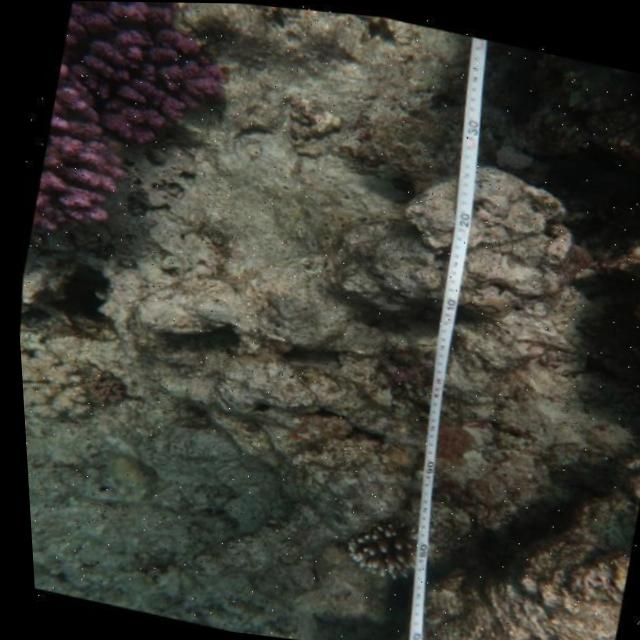Healthy Coral: (13, 0, 266, 274)
